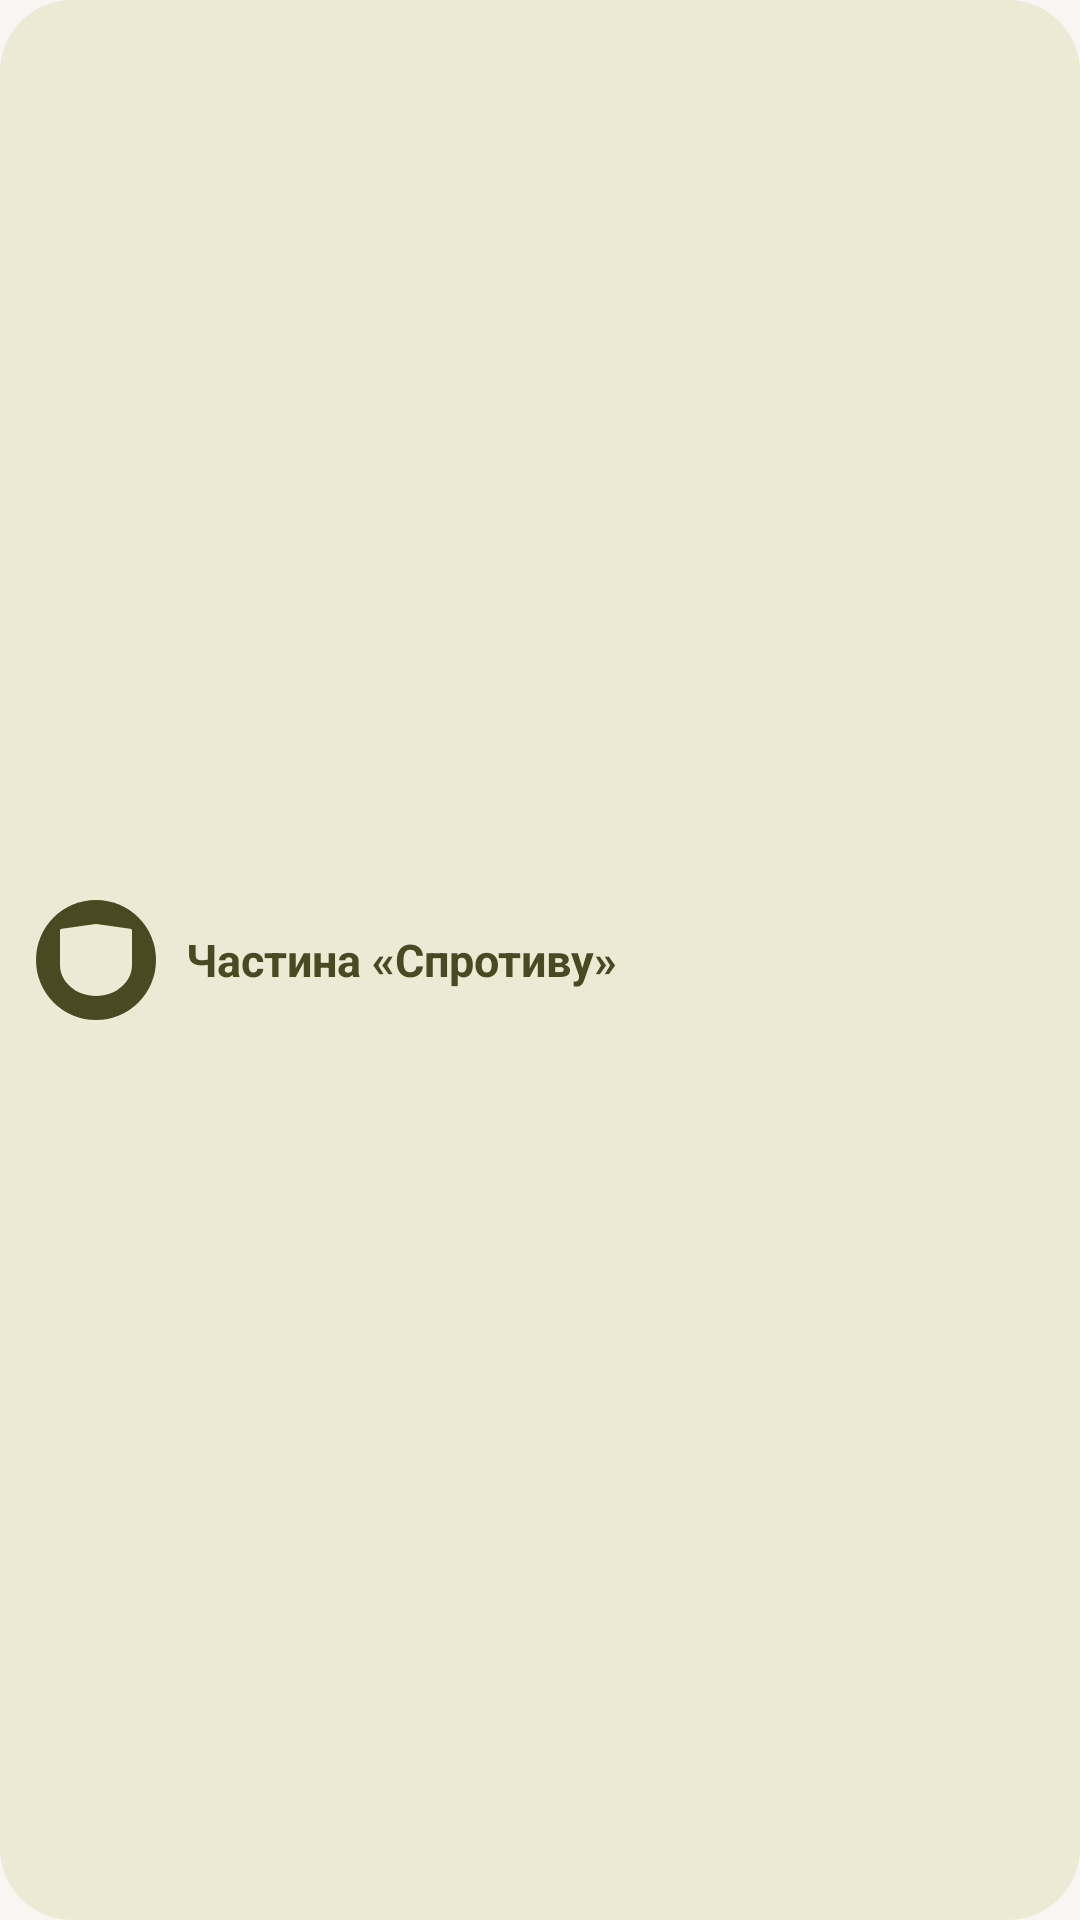

Named icons in this screenshot (1080px x 1920px) and their centers, (x=x, y=y):
ocha security: (x=96, y=960)
